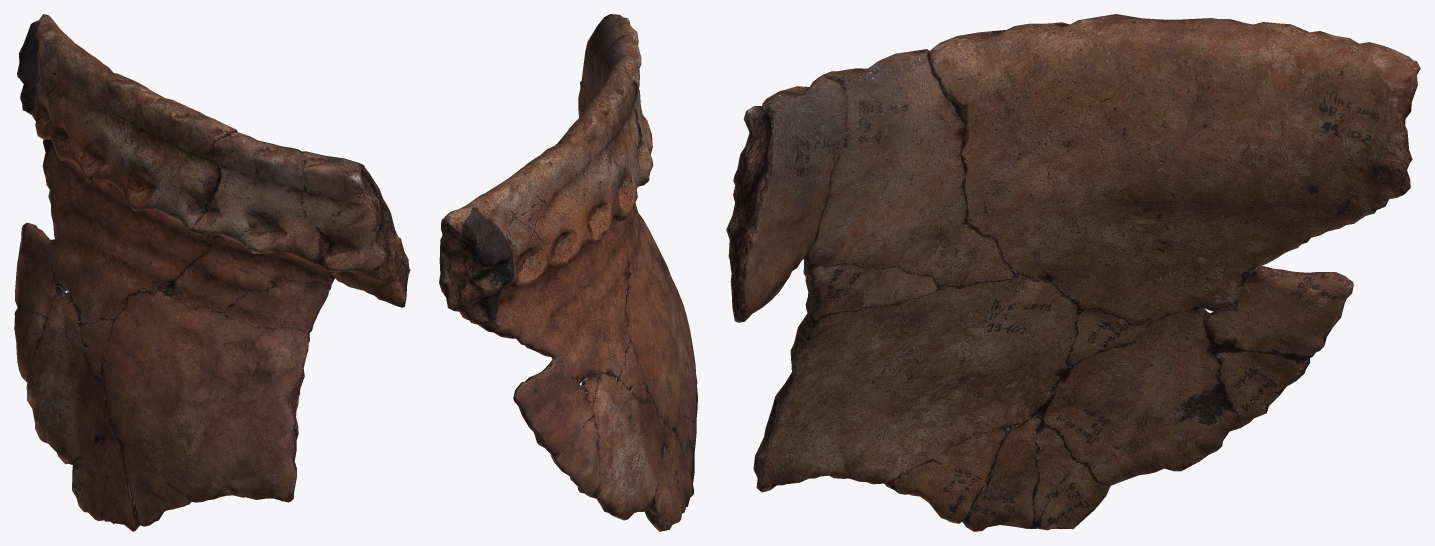
The model's file is cup2_low_re-transformed.glb.
3 renders of one model, left to right at view 1: azimuth 30°, elevation 25°; view 2: azimuth 150°, elevation 25°; view 3: azimuth 270°, elevation 25°, orthographic. The views are drawn at different scales.
Visible parts, largest first — view 1: Model; view 2: Model; view 3: Model.
Part boxes in pixels (x1,y1,x2,y2): Model: (14, 14, 410, 531); Model: (439, 14, 697, 531); Model: (726, 14, 1420, 531).
Size of the model in its own units: 1.63 by 3.01 by 3.45.
1 material, 1 textured.
